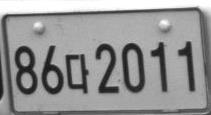0: (121, 41, 146, 93)
1: (148, 41, 172, 93), (176, 40, 200, 92)
2: (94, 42, 119, 94)
6: (40, 44, 64, 94)
8: (13, 44, 38, 95)
다: (65, 53, 89, 94)
